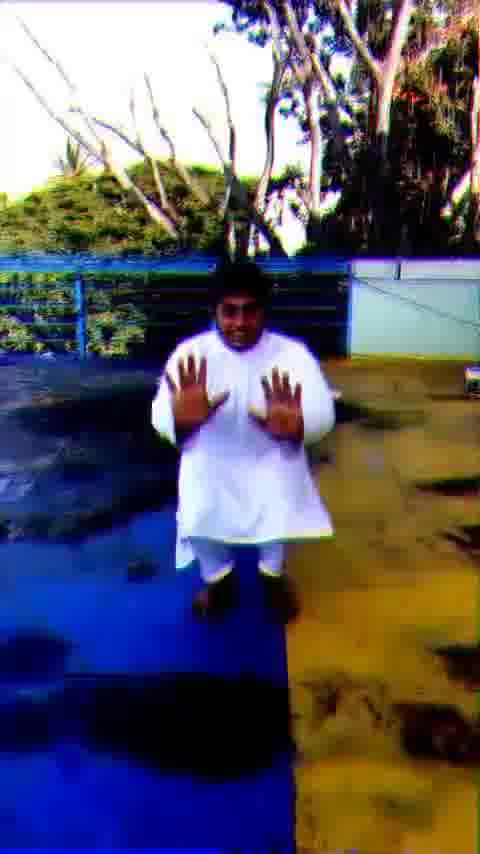duck: (137, 263, 371, 646)
